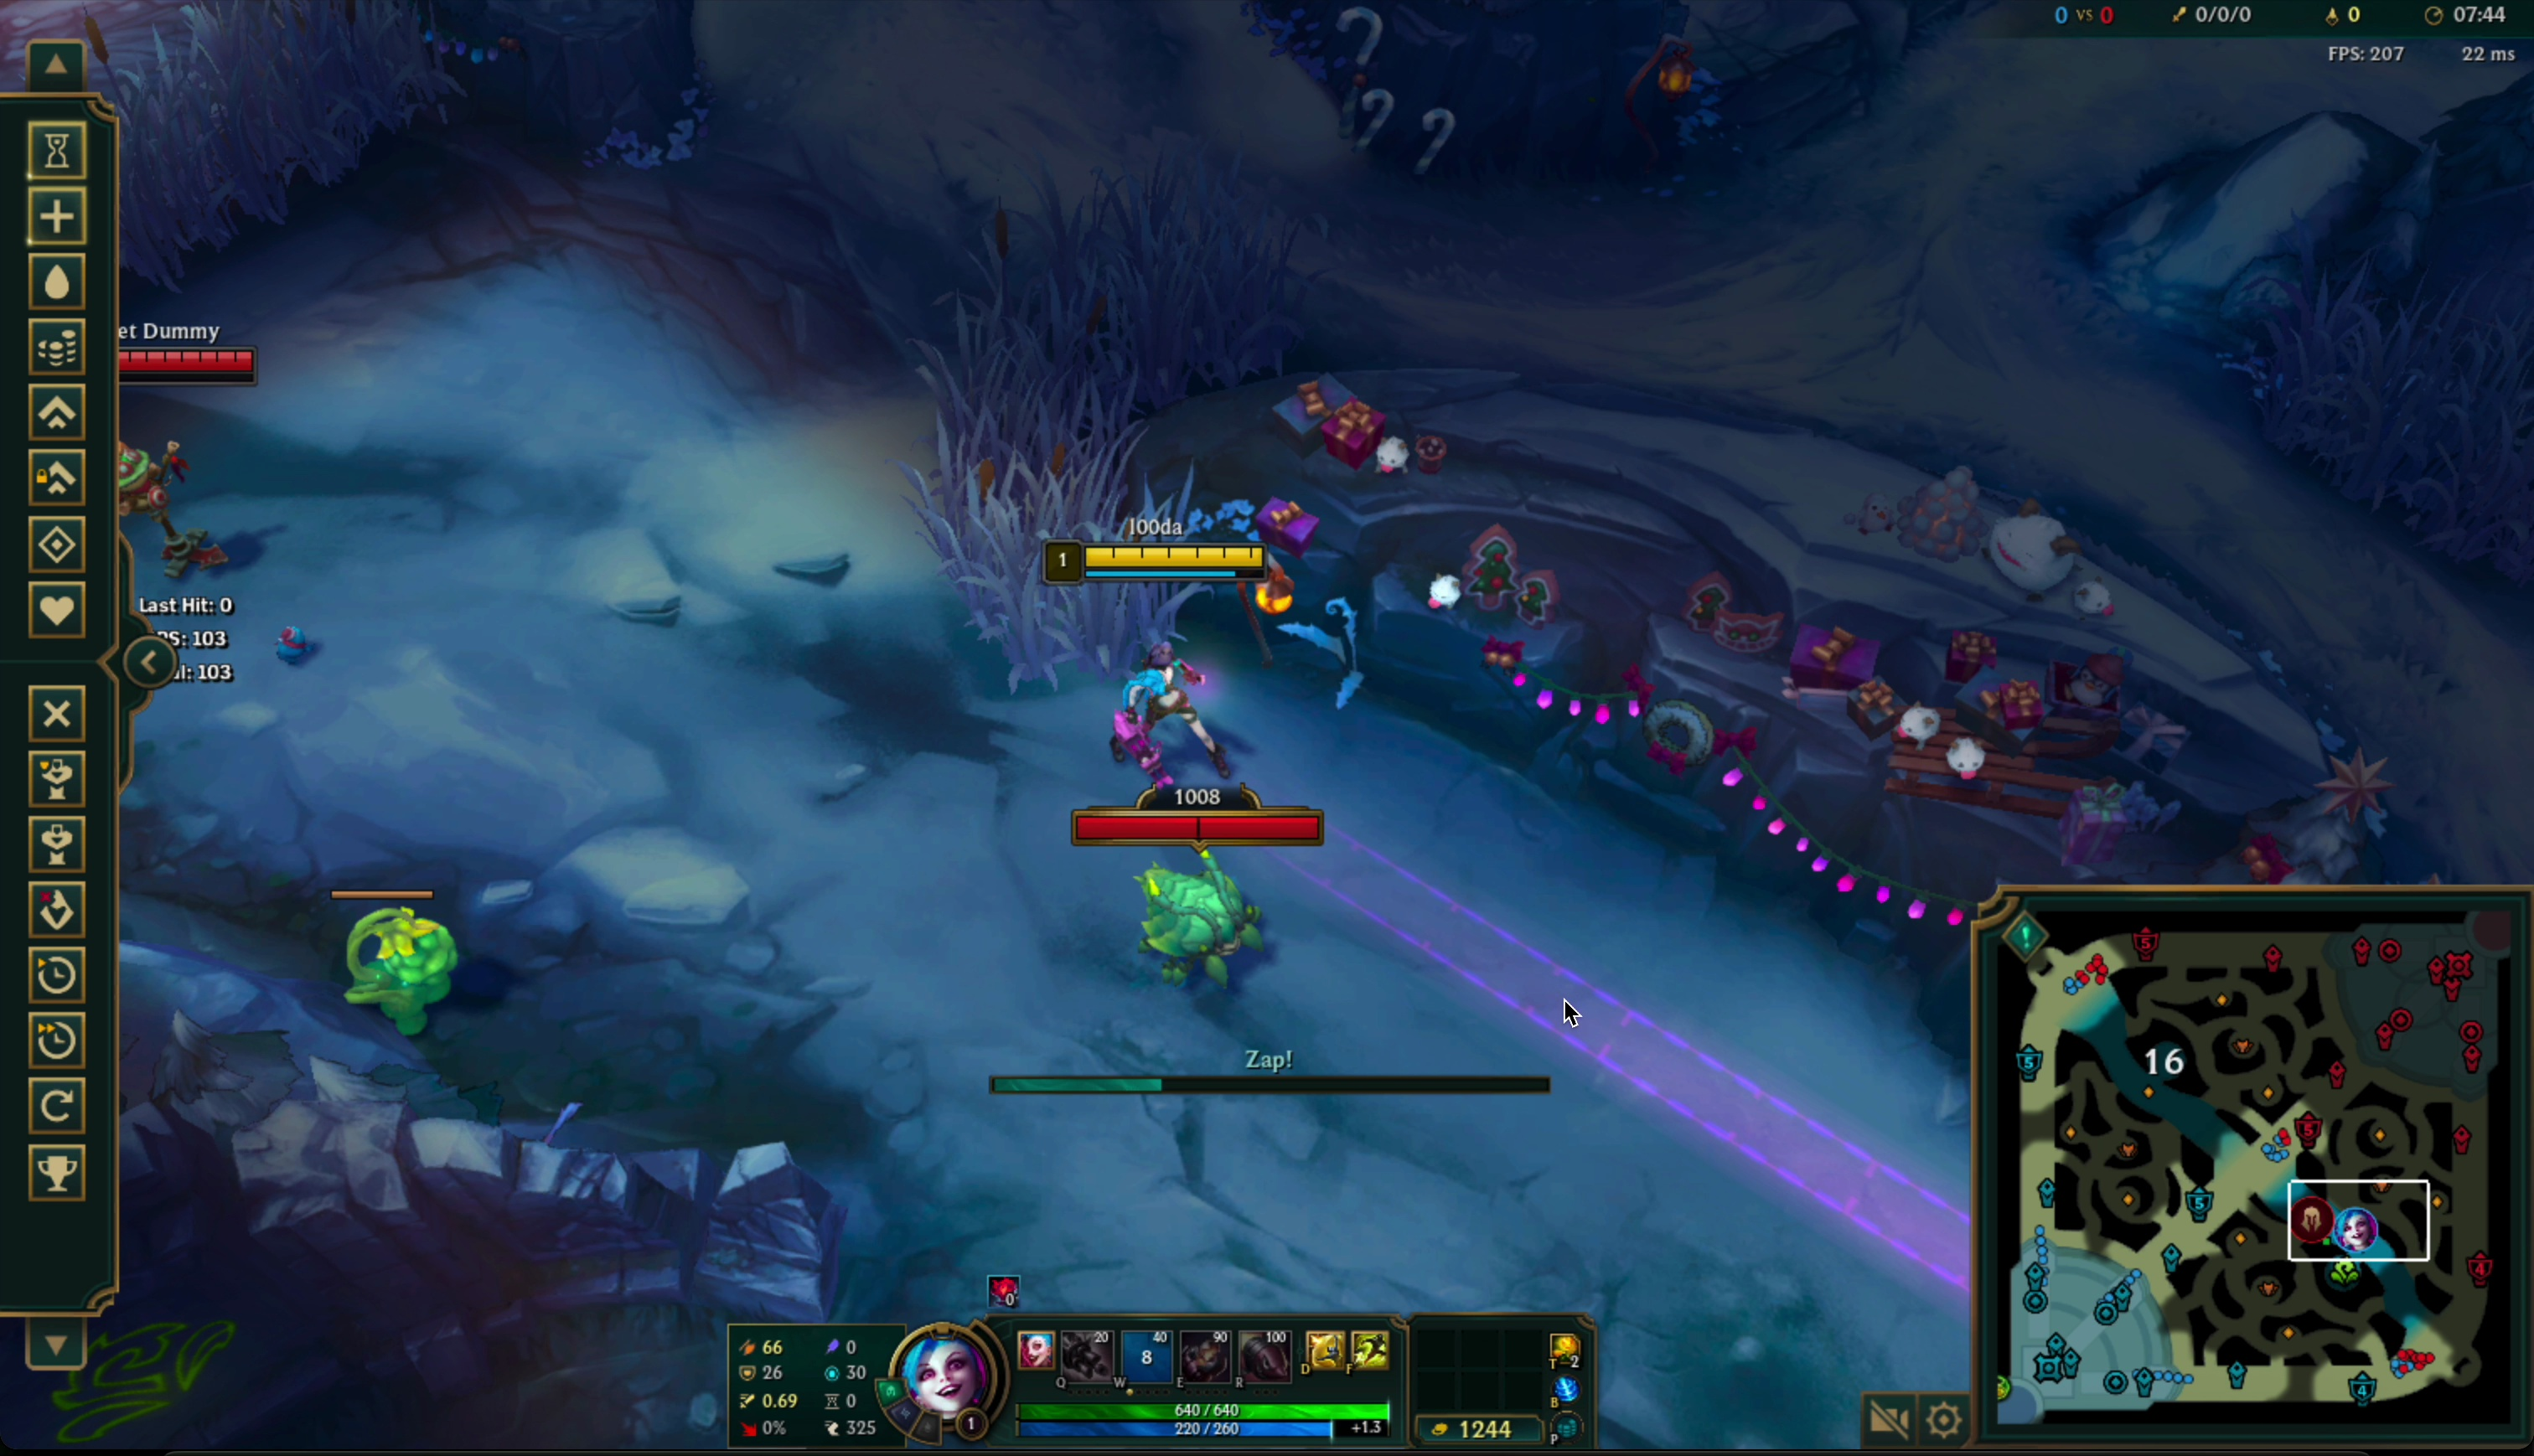JINX_W_PROJECTILE: (994, 485, 1965, 1305)
